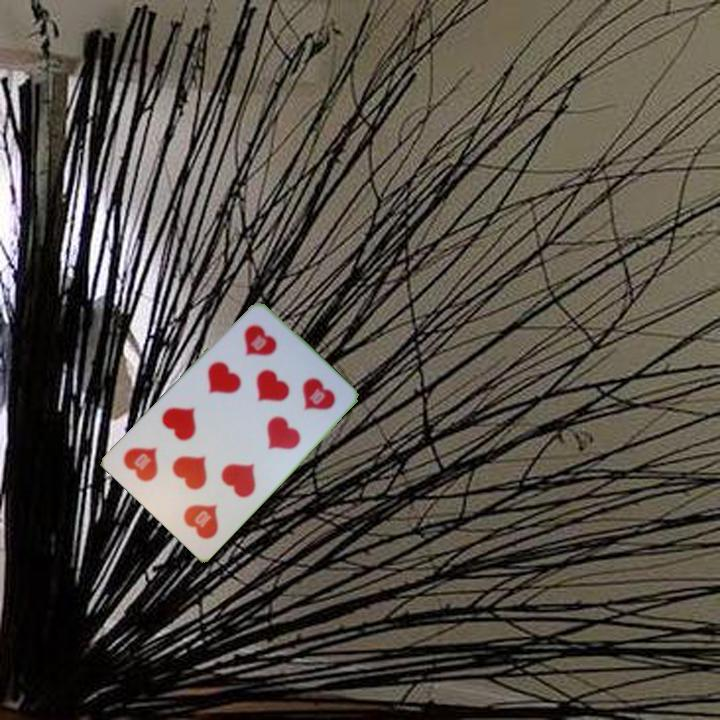h_10.png: (219, 310, 305, 396), (157, 463, 243, 549)
